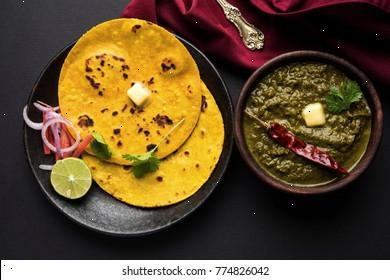saag: (253, 64, 370, 185)
